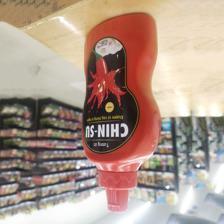Chinsu: (80, 12, 160, 211)
